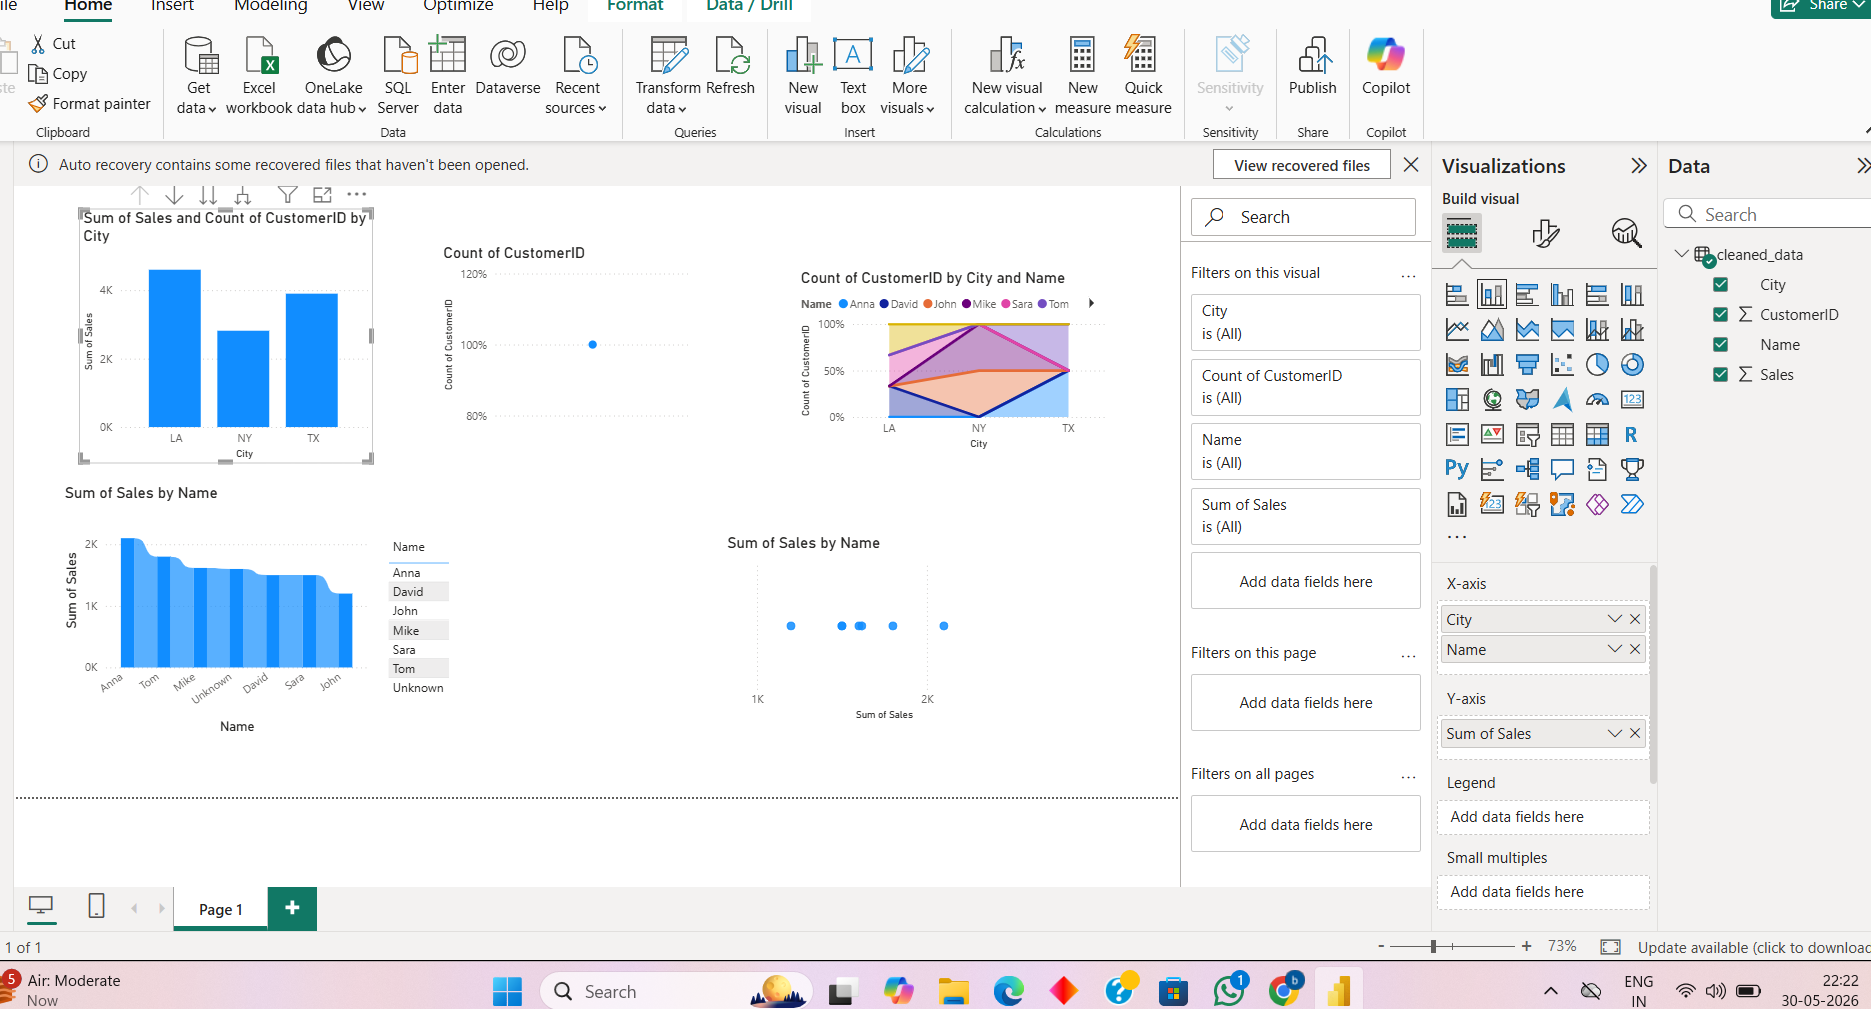

The dashboard page shown, as its layout file describes it:
{"tool":"powerbi","page":{"name":"Page 1","canvas":[1280,720],"ordinal":0},"visuals":[{"type":"columnChart","fields":{"Category":["cleaned_data.City","cleaned_data.Name"],"Y":["Sum(cleaned_data.Sales)"]},"box":[71.4,74.1,322.5,279.9],"z":0},{"type":"ribbonChart","fields":{"Y":["Sum(cleaned_data.Sales)"],"Category":["cleaned_data.Name"]},"box":[50.8,376,343.1,279.9],"z":1},{"type":"hundredPercentStackedAreaChart","fields":{"Y":["CountNonNull(cleaned_data.CustomerID)"]},"box":[466.6,112.5,279.9,203.1],"z":2},{"type":"tableEx","fields":{"Values":["cleaned_data.Name"]},"box":[404.8,429.5,323.8,209.9],"z":3},{"type":"hundredPercentStackedAreaChart","fields":{"Category":["cleaned_data.City"],"Y":["CountNonNull(cleaned_data.CustomerID)"],"Series":["cleaned_data.Name"]},"box":[859,140,343.1,203.1],"z":4},{"type":"scatterChart","fields":{"X":["Sum(cleaned_data.Sales)"],"Category":["cleaned_data.Name"]},"box":[778,430.9,337.6,209.9],"z":5}]}

Visuals, with their boxes on the page's 1280x720 design canvas (x1, y1, x2, y2). These are canvas units, not pixel positions in the 1871x1009 screenshot, which may show the page scaled, cropped or inside an application window:
columnChart - cleaned_data.City x cleaned_data.Name: 71:74:394:354
ribbonChart - Sum(cleaned_data.Sales) x cleaned_data.Name: 51:376:394:656
hundredPercentStackedAreaChart - CountNonNull(cleaned_data.CustomerID): 467:112:746:316
tableEx - cleaned_data.Name: 405:430:729:639
hundredPercentStackedAreaChart - cleaned_data.City x CountNonNull(cleaned_data.CustomerID): 859:140:1202:343
scatterChart - Sum(cleaned_data.Sales) x cleaned_data.Name: 778:431:1116:641
